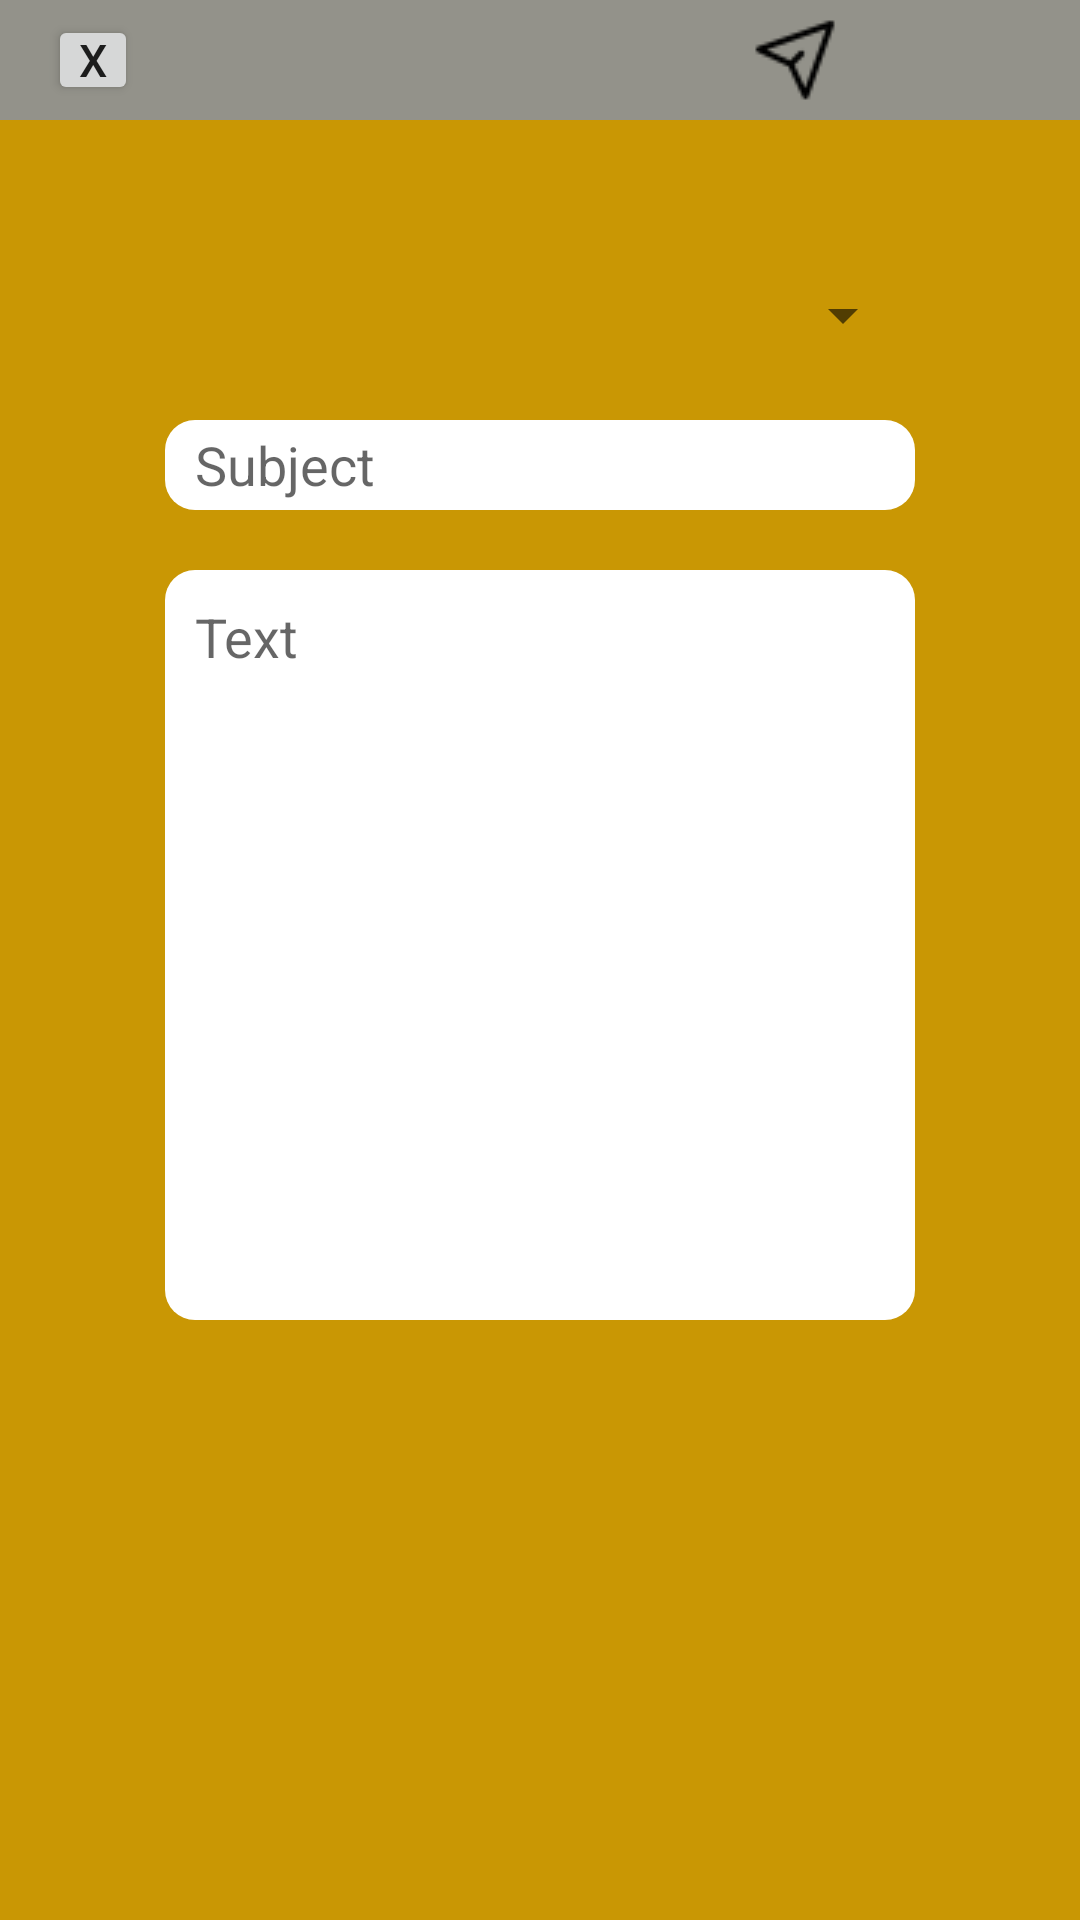

Where icons sit on this 1080w x 1920h app screen, as [x1, y1, x2, y2]:
send: [755, 20, 835, 100]
